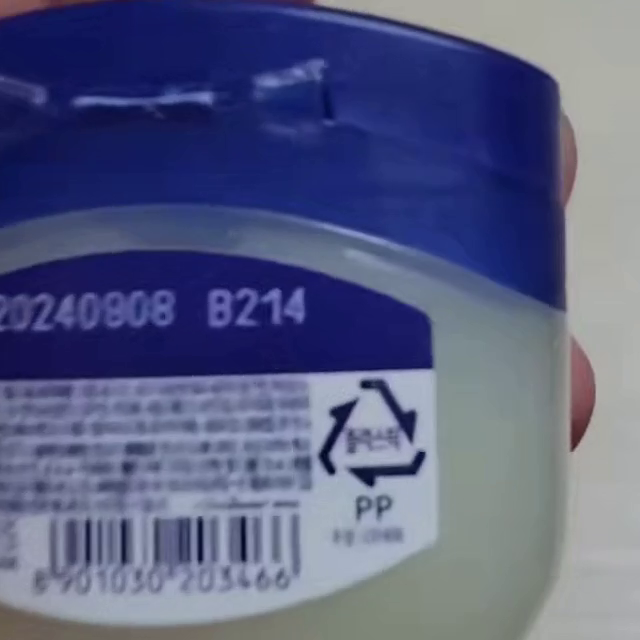Plastic: (316, 377, 423, 486)
